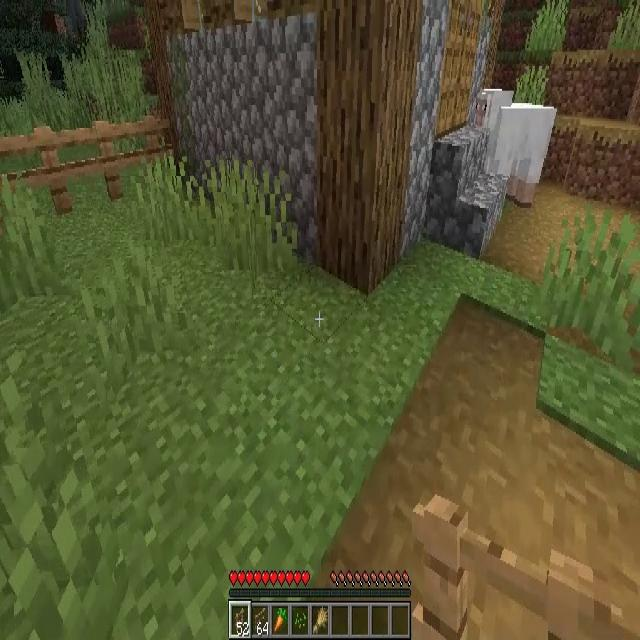sheep: (473, 90, 556, 208)
